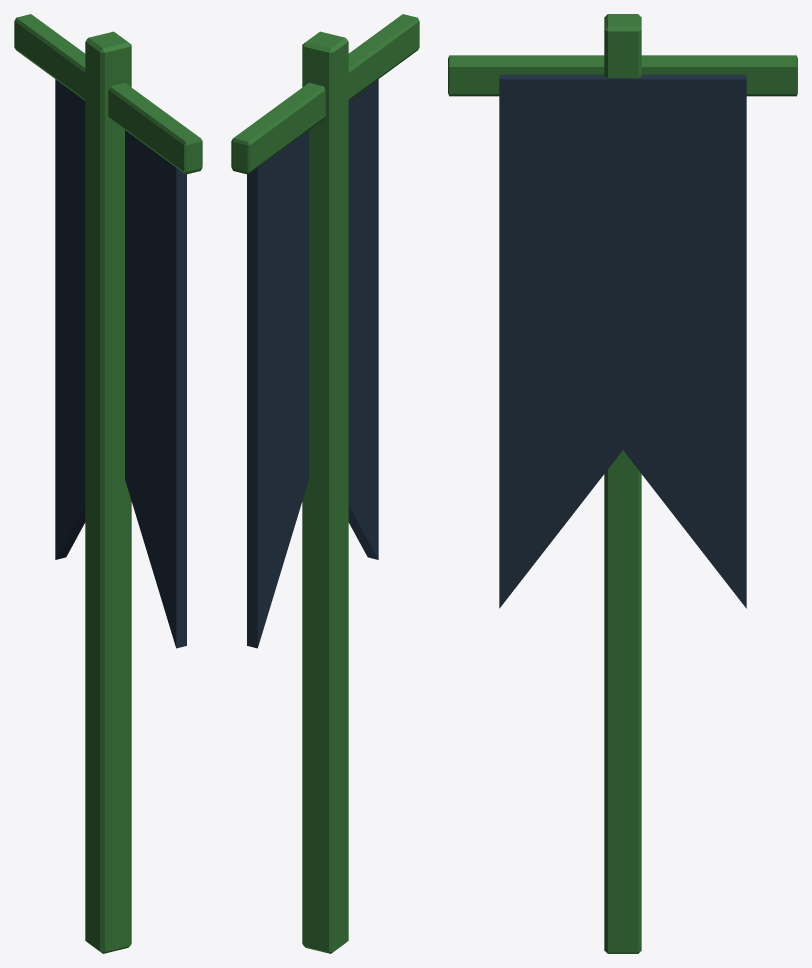
Rendered from Textured Flag 1.fbx.
The picture shows the model from 3 angles, left to right: view 1: azimuth 30°, elevation 25°; view 2: azimuth 150°, elevation 25°; view 3: azimuth 270°, elevation 25°; orthographic projection. The views are drawn at different scales.
Parts seen in each view (by area): view 1: Flag_Base, Flag; view 2: Flag_Base, Flag; view 3: Flag, Flag_Base.
Part boxes in pixels (box(x1,y1,x2,y2)): Flag_Base: box(14, 14, 202, 953); Flag: box(55, 79, 186, 648); Flag_Base: box(231, 14, 419, 953); Flag: box(247, 79, 378, 648); Flag: box(499, 74, 746, 608); Flag_Base: box(448, 14, 797, 953).
Size of the model in its own units: 0.1618 by 4.13 by 1.41.
